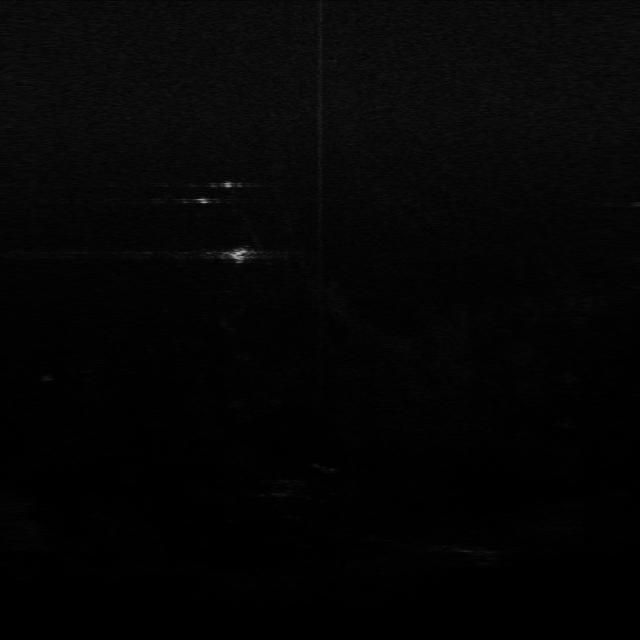rov: (221, 242, 257, 268)
